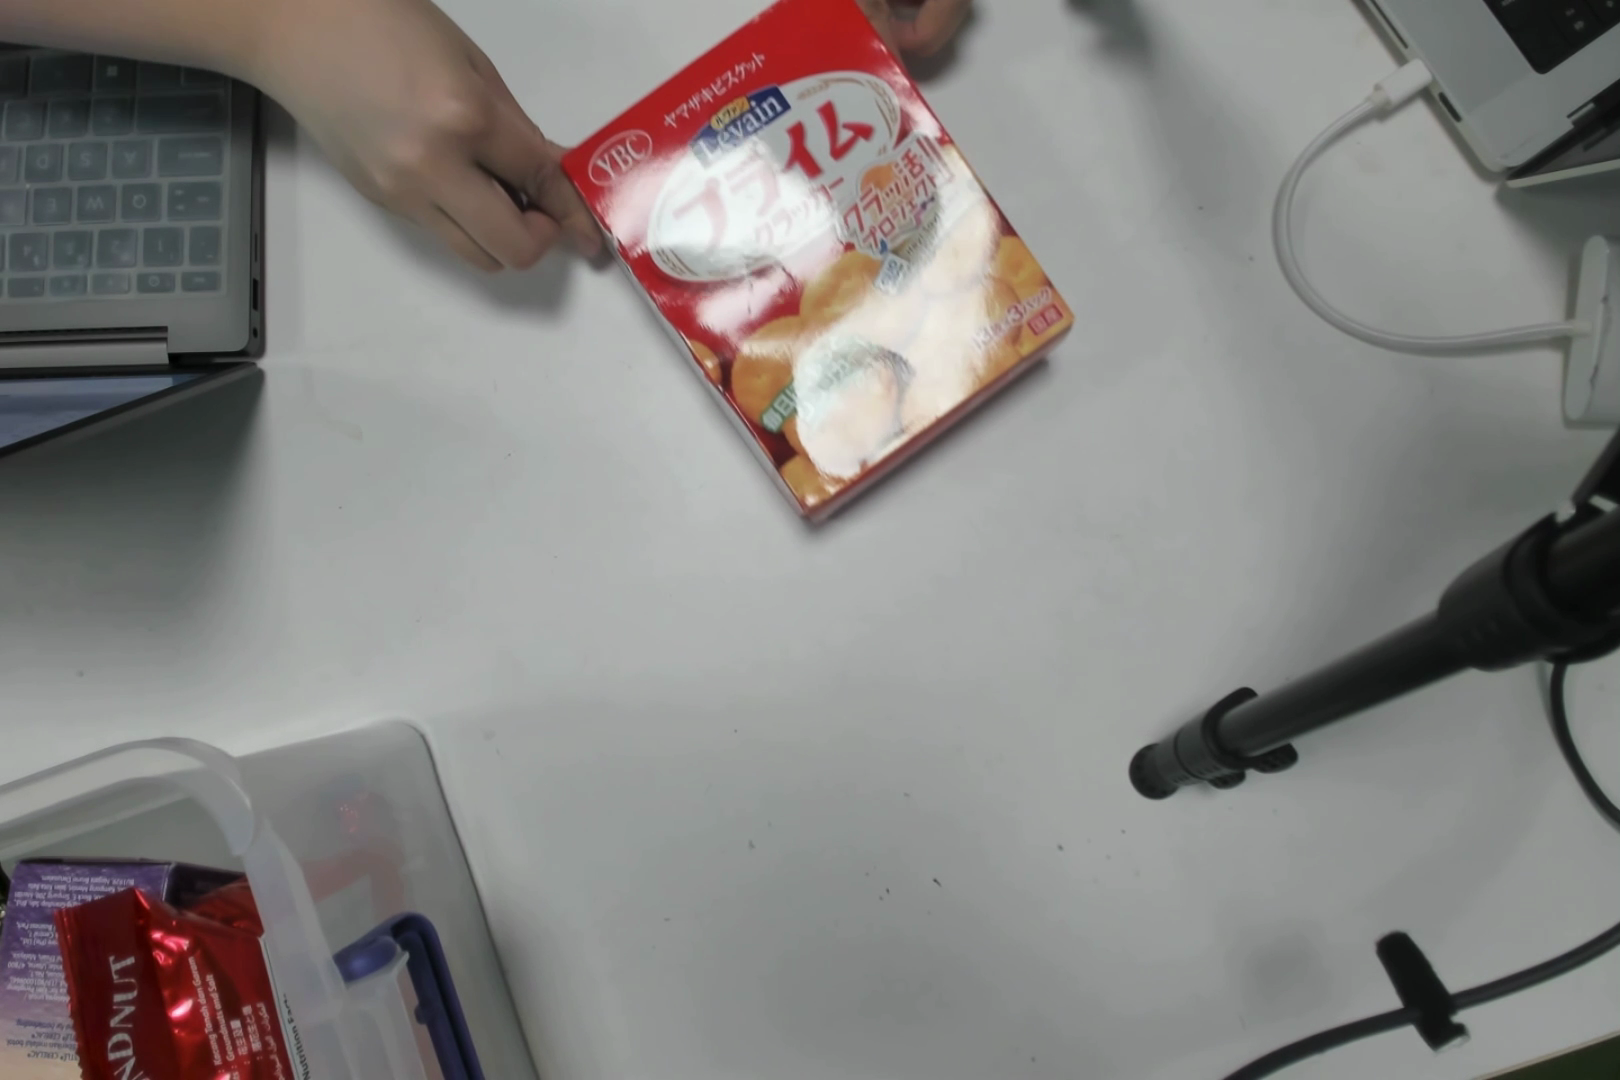c: (595, 45, 1000, 488)
